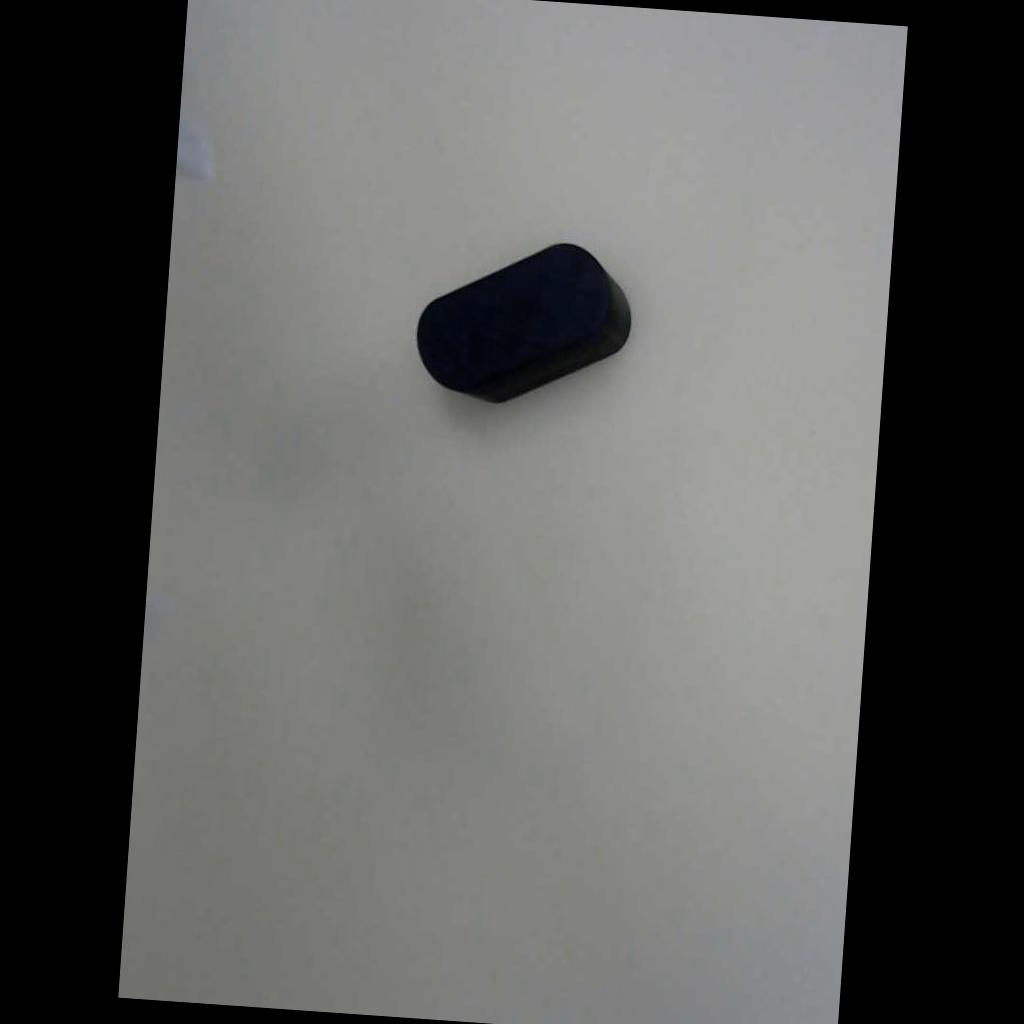oval: (391, 216, 656, 436)
